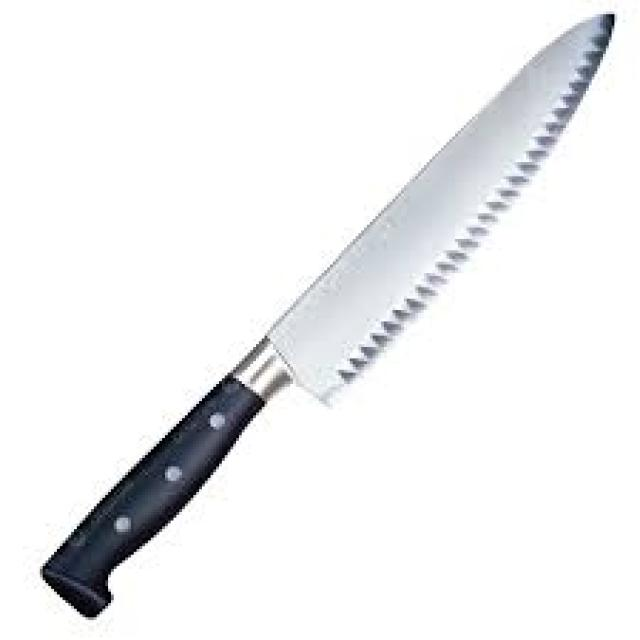Knife: (37, 9, 614, 617)
